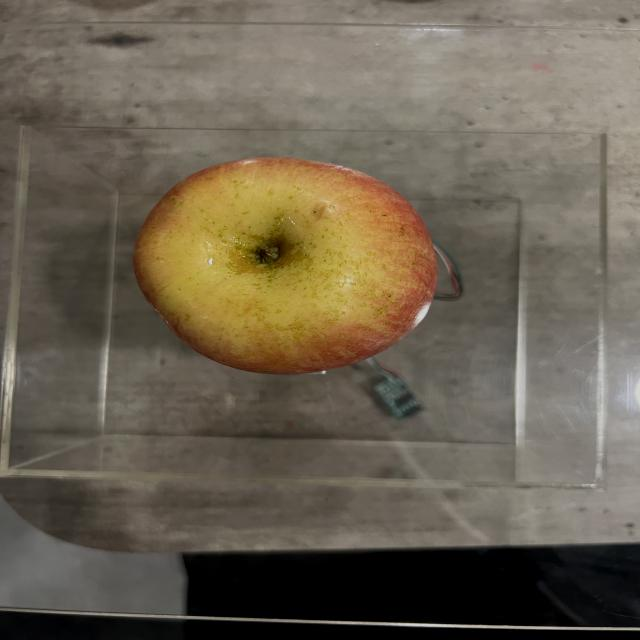red apple: (140, 161, 421, 370)
